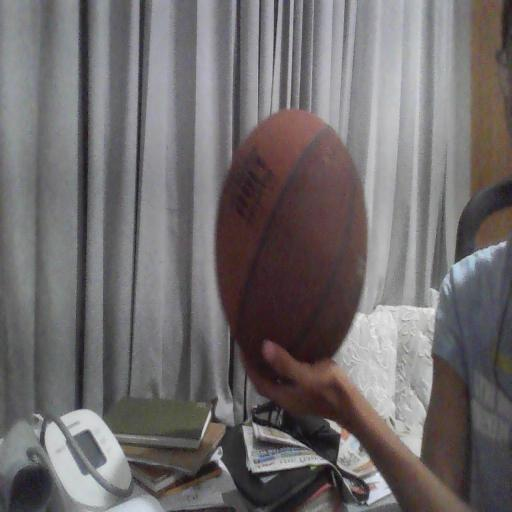basketball: (216, 110, 366, 372)
